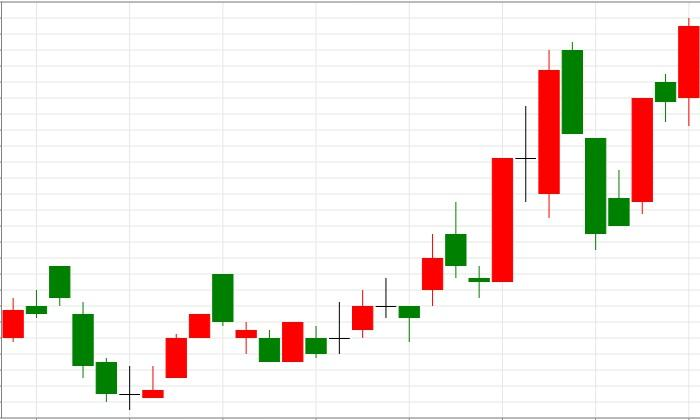three_white_soldiers_rise: (49, 266, 211, 410)
